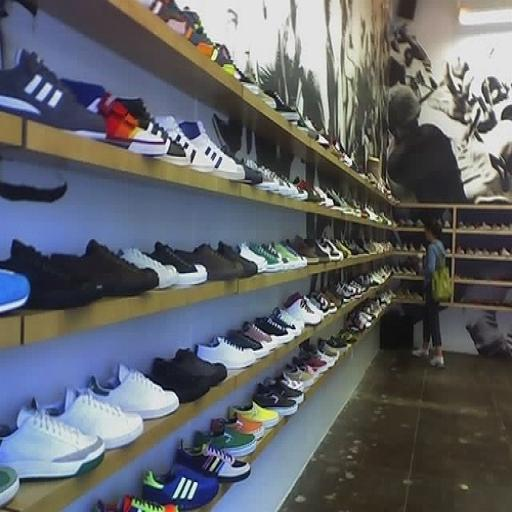shoe: (0, 50, 106, 140), (61, 79, 171, 157), (0, 408, 104, 479), (0, 240, 103, 309), (34, 389, 143, 449), (50, 240, 159, 296), (117, 98, 190, 167), (88, 365, 179, 419), (179, 122, 245, 182), (142, 466, 219, 510), (156, 116, 215, 173), (175, 444, 251, 482), (149, 358, 210, 404), (149, 242, 208, 288), (175, 244, 244, 282), (119, 248, 178, 290), (194, 420, 257, 458), (197, 337, 256, 370), (173, 350, 227, 386), (93, 495, 178, 512), (217, 242, 258, 277), (230, 401, 280, 429), (253, 385, 298, 416), (0, 268, 30, 312), (226, 408, 266, 440), (226, 330, 270, 359), (284, 293, 322, 325), (264, 90, 300, 122), (242, 322, 280, 351), (254, 317, 294, 344), (263, 378, 304, 404), (249, 243, 285, 272), (272, 307, 306, 337), (262, 243, 297, 272), (274, 243, 308, 270), (288, 236, 319, 265), (238, 243, 267, 273), (293, 350, 329, 372), (0, 465, 19, 506), (281, 240, 308, 268), (292, 358, 321, 384), (284, 365, 314, 389), (315, 238, 342, 262), (305, 239, 331, 263), (319, 336, 349, 355), (317, 339, 340, 363), (257, 168, 279, 192), (321, 238, 344, 260), (281, 373, 304, 393), (323, 290, 342, 307), (412, 347, 429, 358), (430, 356, 444, 369)
